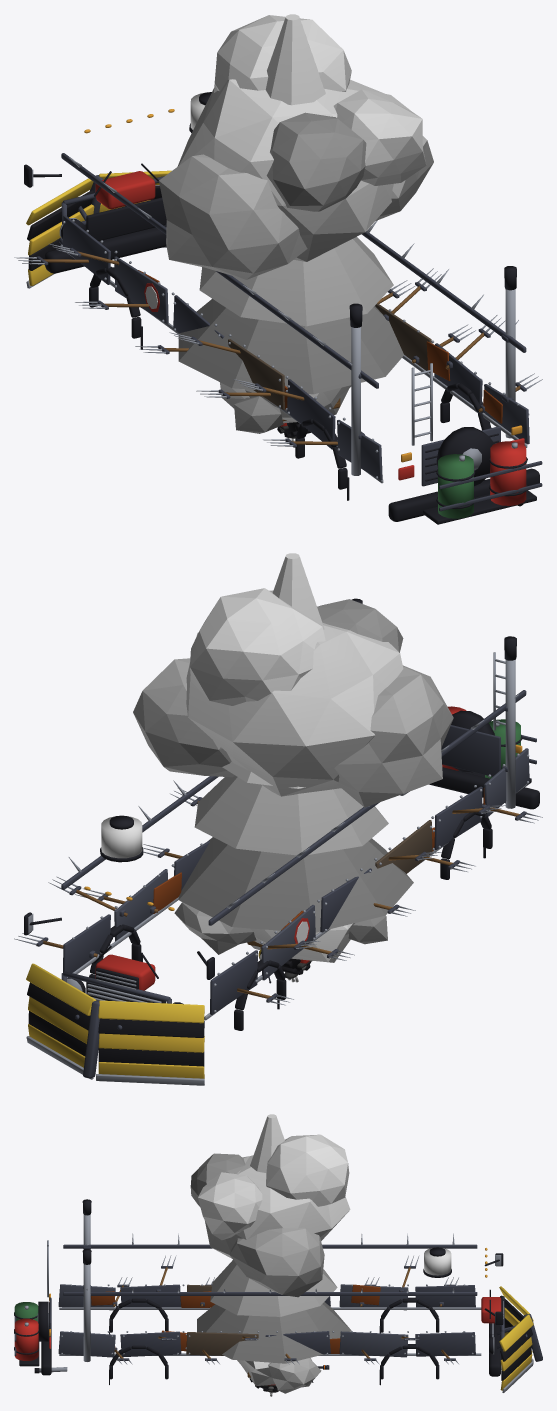
Rendered from boys-day.glb.
3 renders of one model, top to bottom at view 1: azimuth 30°, elevation 25°; view 2: azimuth 150°, elevation 25°; view 3: azimuth 270°, elevation 25°, orthographic. The views are drawn at different scales.
Parts seen in each view (by area): view 1: p_tree_top, p_pine_top, bus_body, bus_armor_2, bus_tank, bus_armor_1, bus_engine, bus_plow, bus_forks_2, p_rock, bus_forks_1; view 2: p_tree_top, p_pine_top, bus_plow, bus_body, bus_armor_2, bus_armor_1, p_rock, bus_engine, bus_forks_2, bus_hopper, bus_forks_1, bus_tank; view 3: p_tree_top, p_pine_top, bus_armor_2, bus_body, bus_armor_1, bus_plow, p_rock, bus_engine, bus_tank, bus_hopper, bus_forks_2, bus_forks_1.
Part boxes in pixels (x1,y1,x2,y2): p_tree_top: (159,15,433,279); p_pine_top: (178,14,403,394); bus_body: (24,109,539,521); bus_armor_2: (61,153,529,480); bus_tank: (423,441,542,524); bus_armor_1: (61,176,482,449); bus_engine: (95,171,516,475); bus_plow: (26,170,171,288); bus_forks_2: (48,243,505,400); p_rock: (220,382,351,433); bus_forks_1: (14,256,542,447); p_tree_top: (133,588,453,807); p_pine_top: (178,553,413,932); bus_plow: (26,963,204,1085); bus_body: (24,652,539,1030); bus_armor_2: (61,690,529,980); bus_armor_1: (61,786,482,1014); p_rock: (174,902,387,962); bus_engine: (95,598,516,990); bus_forks_2: (48,788,505,960); bus_hopper: (100,815,143,862); bus_forks_1: (14,803,542,1005); bus_tank: (442,706,536,786); p_tree_top: (190,1134,350,1297); p_pine_top: (197,1114,351,1363); bus_armor_2: (58,1233,477,1357); bus_body: (34,1240,503,1385); bus_armor_1: (120,1284,504,1360); bus_plow: (496,1286,542,1392); p_rock: (237,1358,321,1393); bus_engine: (82,1199,503,1361); bus_tank: (14,1302,39,1366); bus_hopper: (423,1247,451,1277); bus_forks_2: (156,1255,419,1364); bus_forks_1: (112,1277,458,1364).
Bounding box in the file's own units: 5.26 × 7.75 × 13.28.
